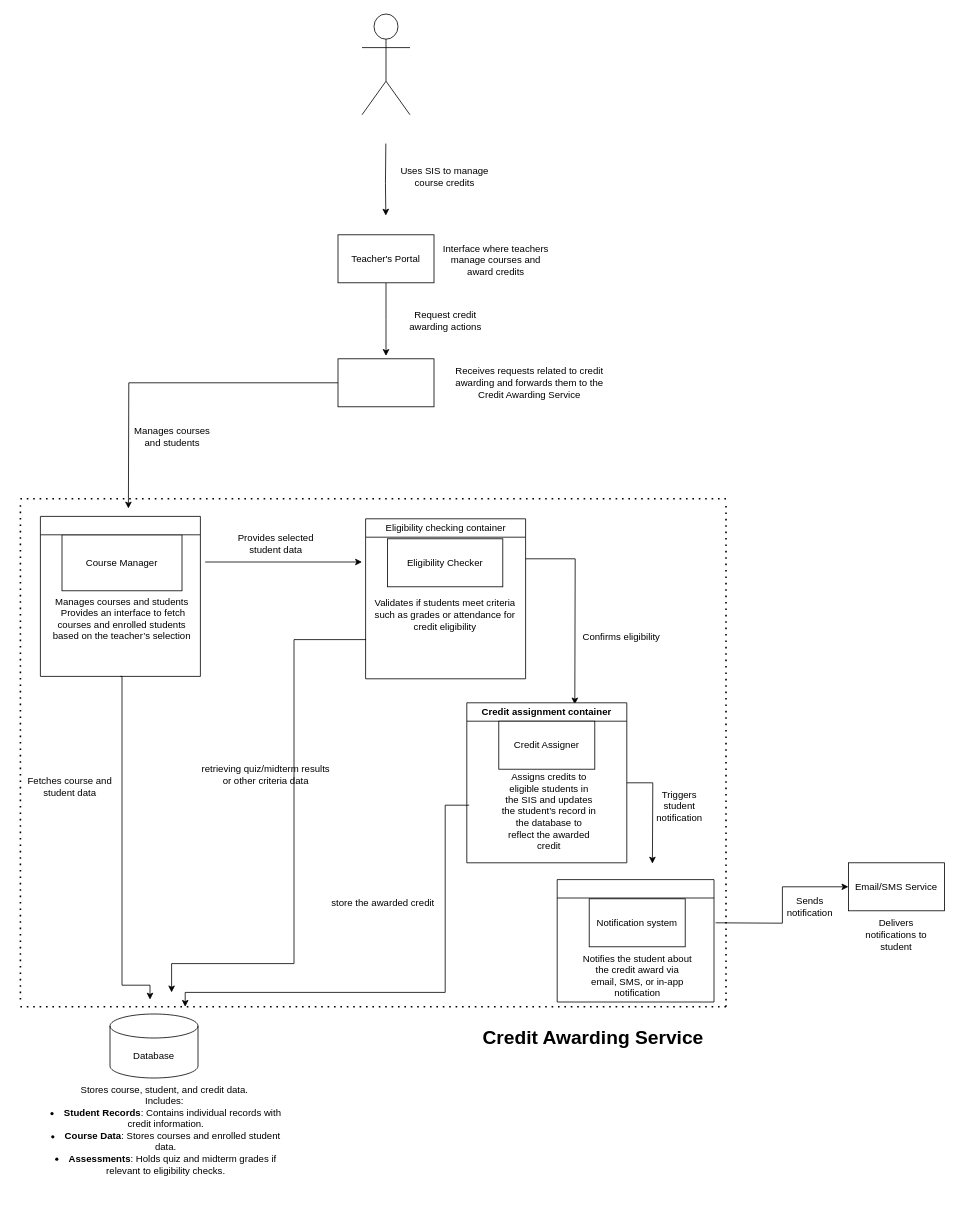
Image size: 958x1224. Some labels were removed from this diagram. Each missing label, with the centre of its shape:
"Course management container" belongs at pixel 120 596.
"Credit Awarding Controller" belongs at pixel 385 382.
"Notification Container" belongs at pixel 635 940.
"Teacher (User)" belongs at pixel 385 64.
